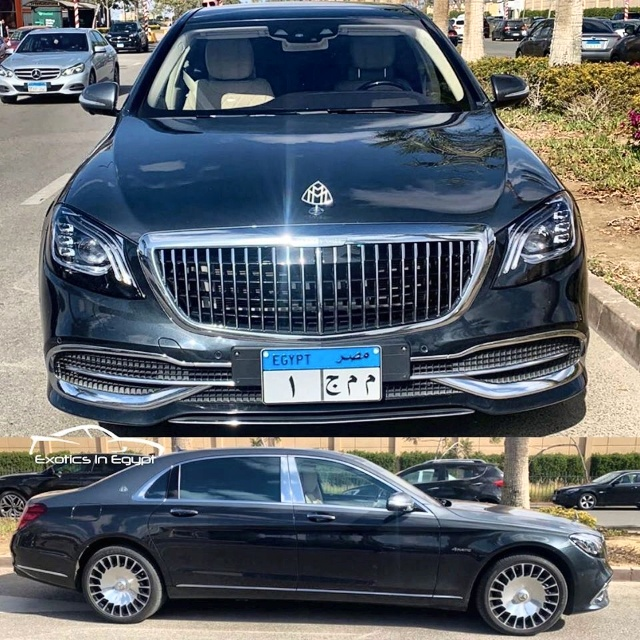License Plate: (257, 343, 385, 407)
